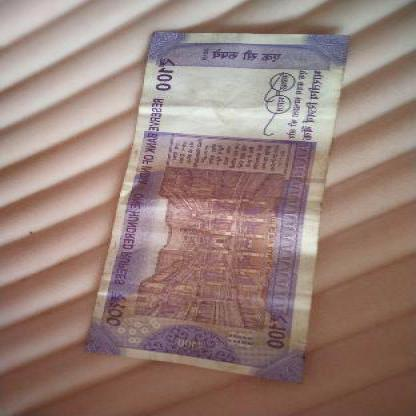New100Back: (102, 26, 318, 380)
